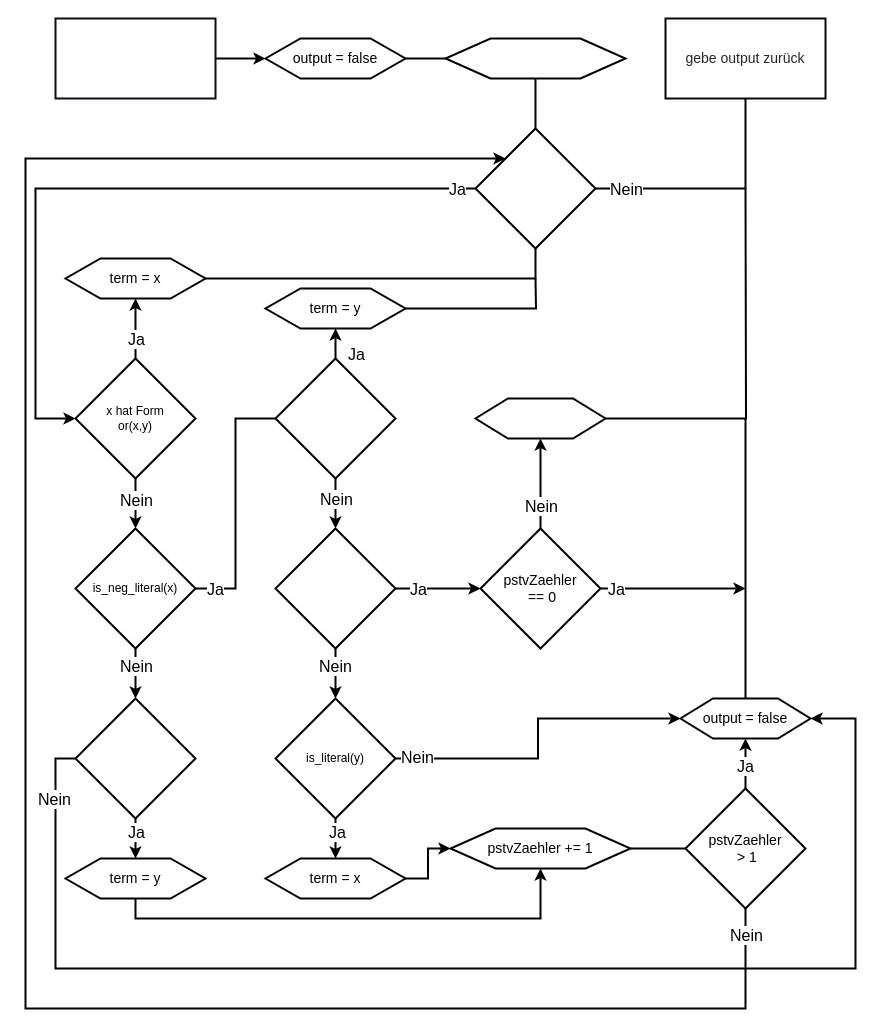
Some shapes in this 881 by 1034 pixel diagram are drawn without their labels. Each missing label, with the centre of its shape:
is_clause (term): the point at 135,58
is_literal(x): the point at 135,758
is_neg_literal(y): the point at 335,588
output = true: the point at 540,418
pstvZaehler = 0: the point at 535,58
term hat Form or(x,y): the point at 535,188
y hat Form or(x,y): the point at 335,418
